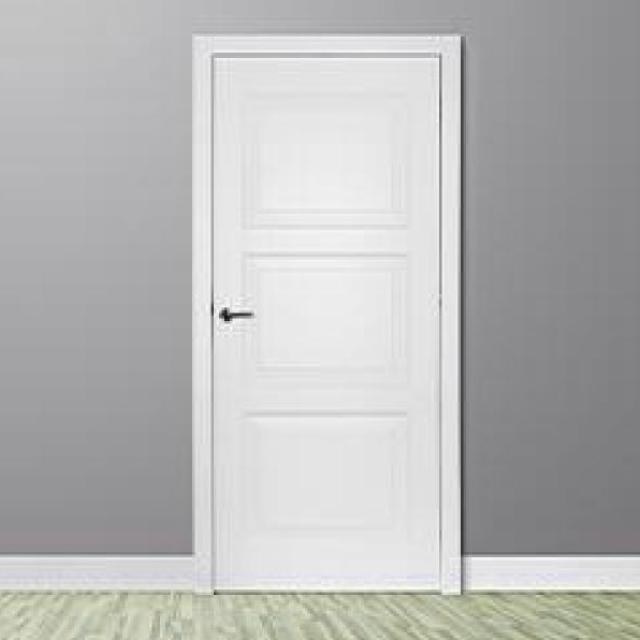door: (202, 34, 455, 595)
